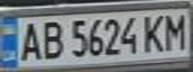2: (103, 15, 124, 56)
4: (118, 13, 142, 55)
5: (66, 17, 90, 59)
6: (84, 16, 106, 58)
A: (15, 19, 45, 63)
B: (36, 18, 66, 61)
K: (139, 11, 169, 53)
M: (160, 10, 190, 51)
